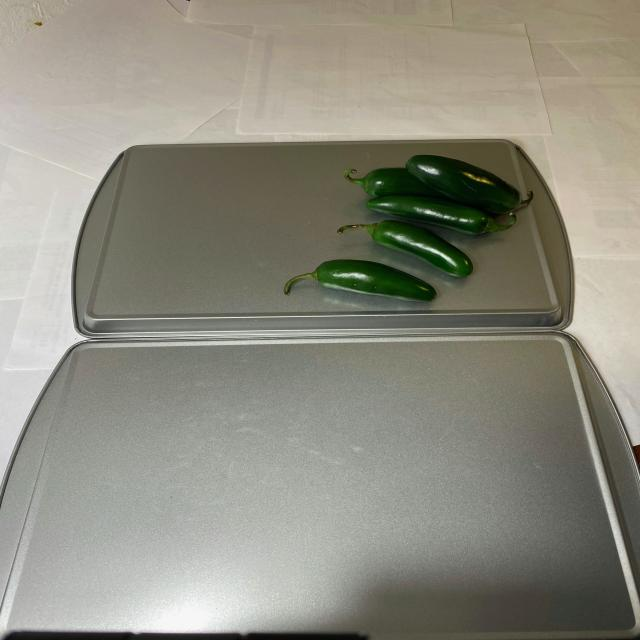chilli: (284, 153, 535, 311)
